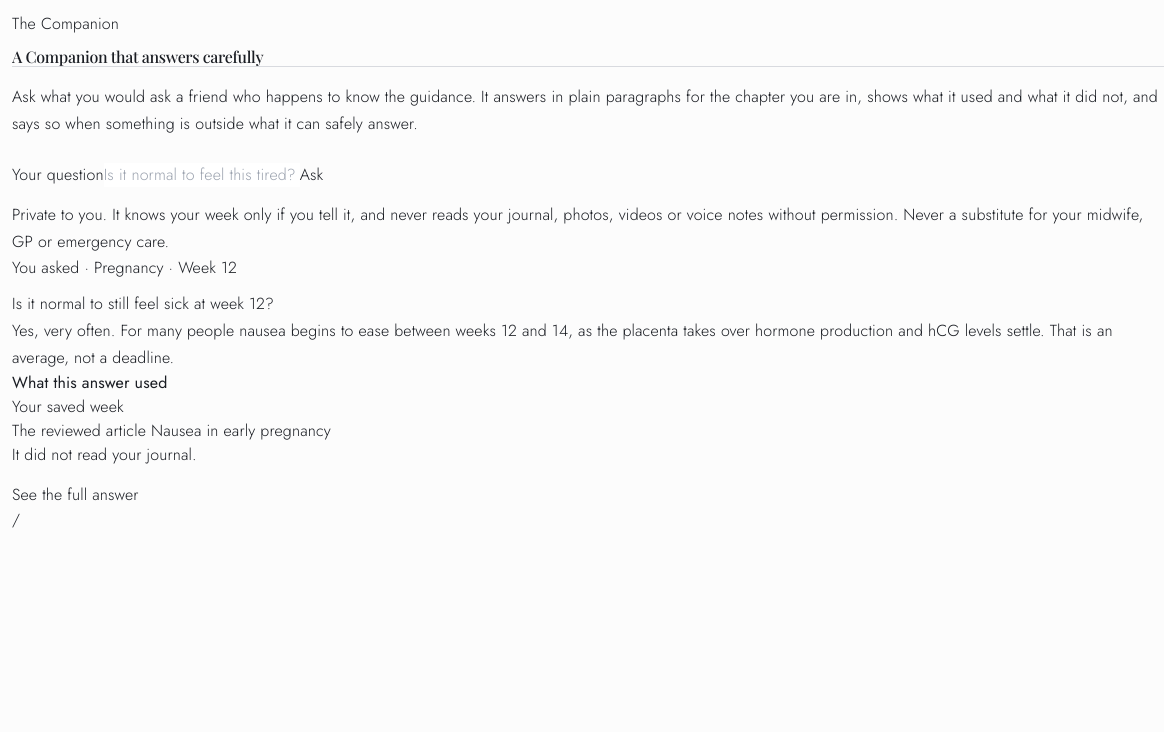
it: homepage Companion ask › hands the question to the shared Companion panel without putting it in the URL
Type "  Is this tiredness normal?  " into the field labelled "Your question" at (202, 175), box x1=104 y1=163 x2=300 y2=187
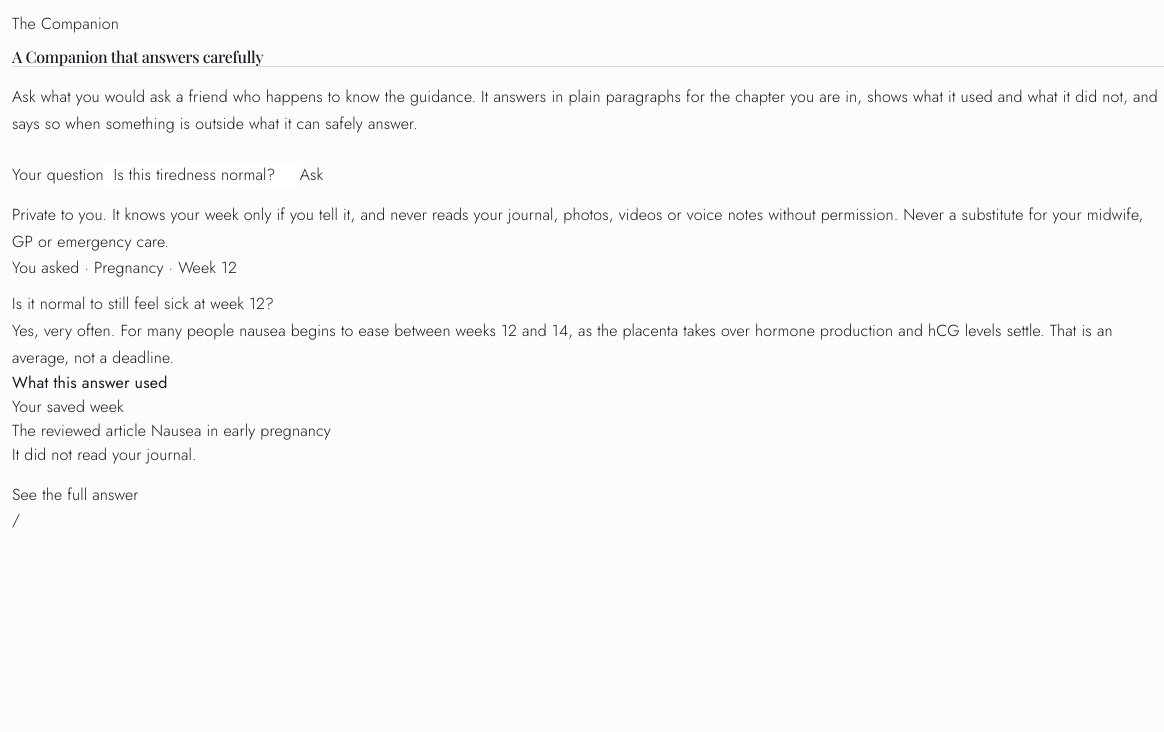
Click the button "Ask" at (312, 175), box x1=300 y1=163 x2=323 y2=187
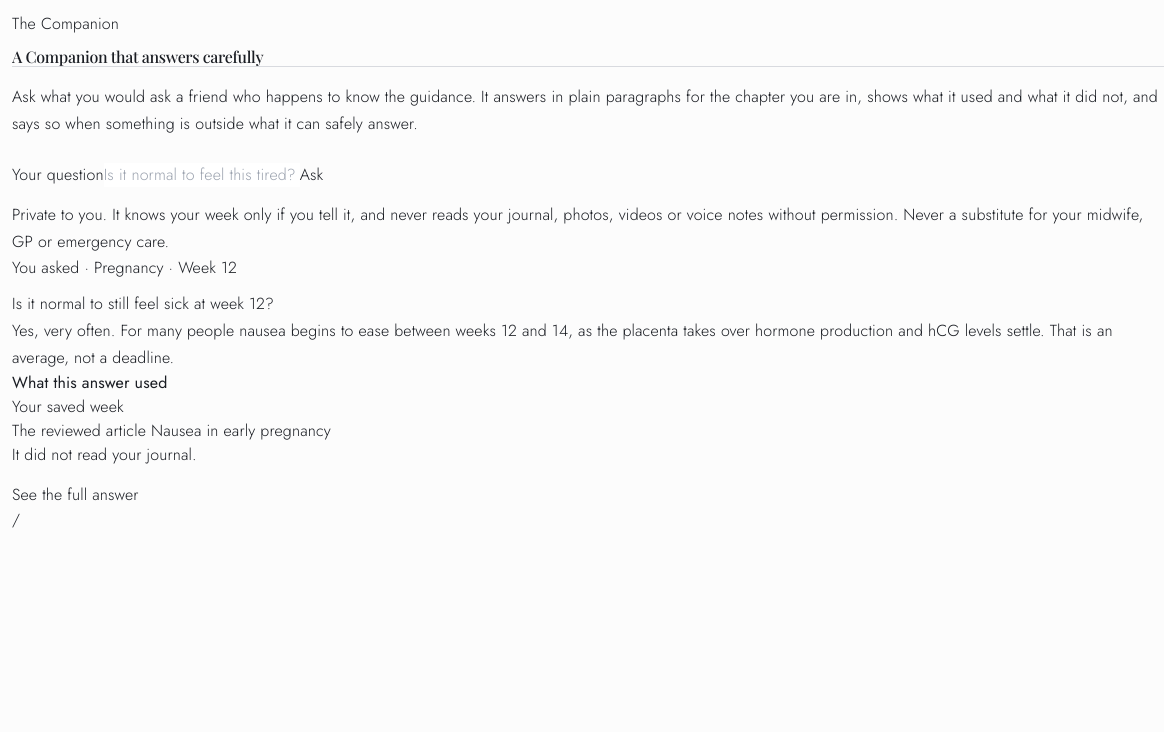
expect the text with test id "path" reads "/": met, box x1=12 y1=508 x2=20 y2=531
expect the field labelled "Your question" is empty: met, box x1=104 y1=163 x2=300 y2=187
